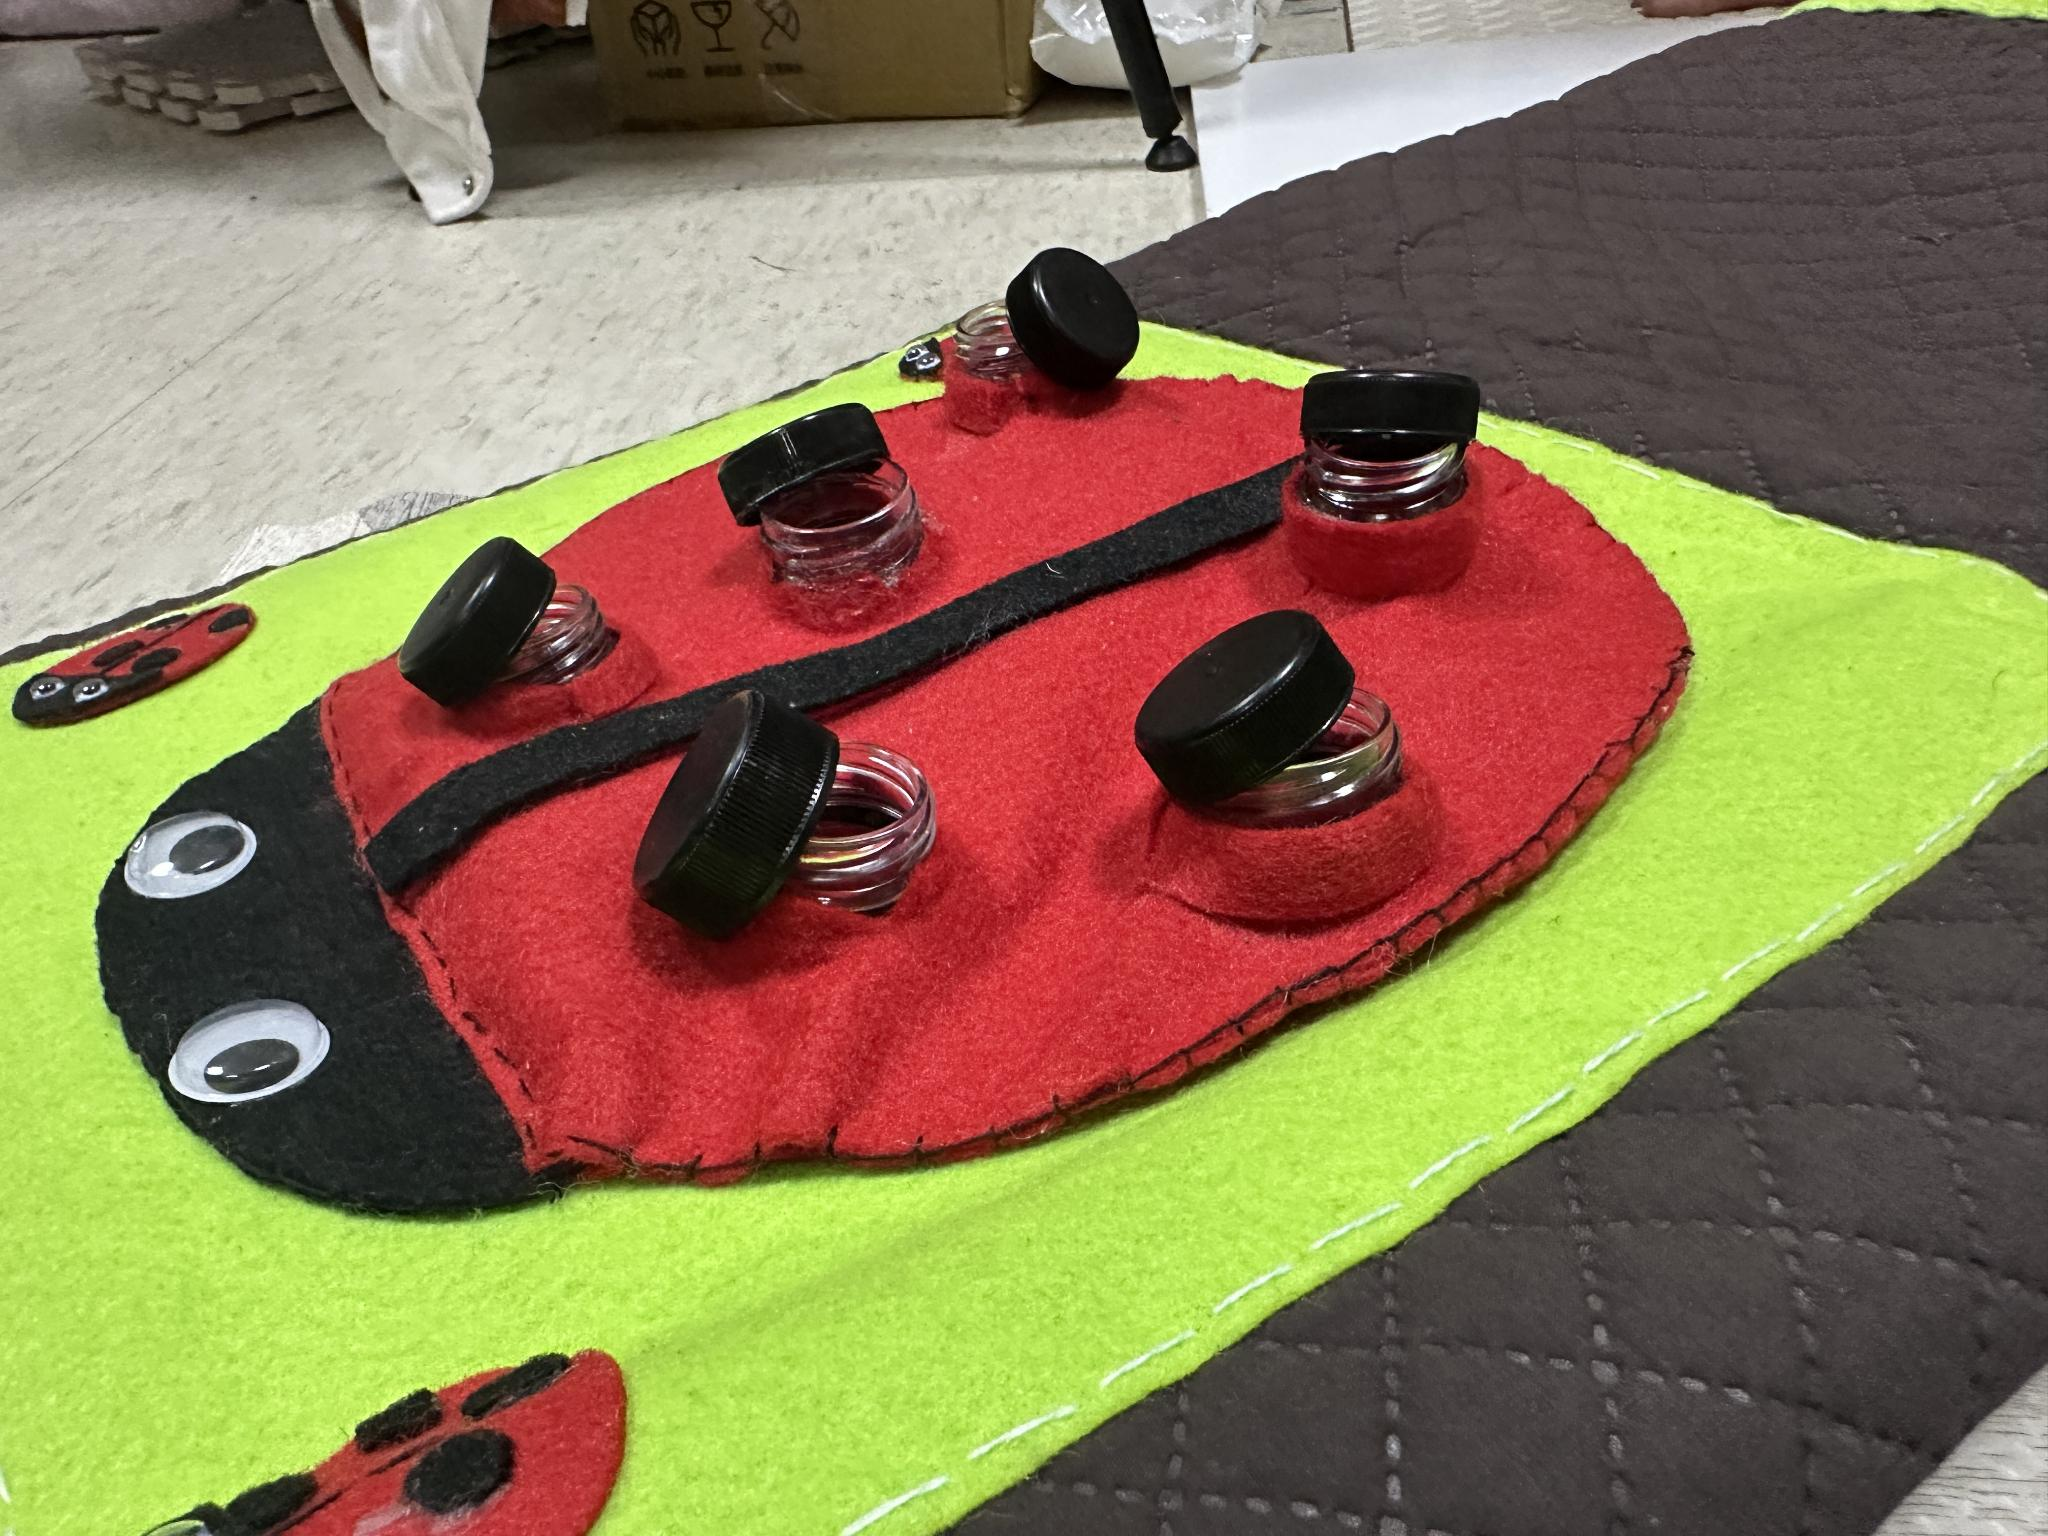cap_ng: (1090, 592, 1442, 952), (622, 681, 959, 981), (1245, 340, 1522, 618), (706, 407, 955, 610), (398, 529, 645, 721), (929, 237, 1153, 431)
